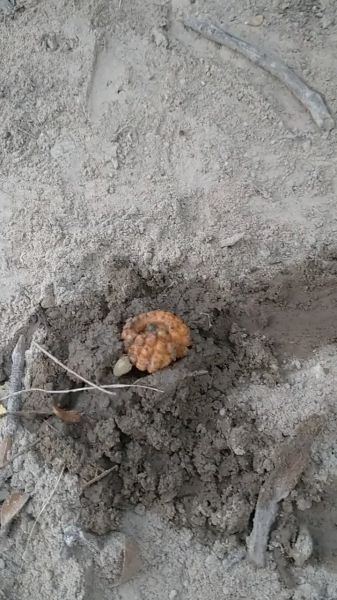eggs: (117, 307, 201, 381)
